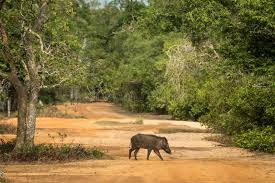boar: (127, 134, 172, 160)
